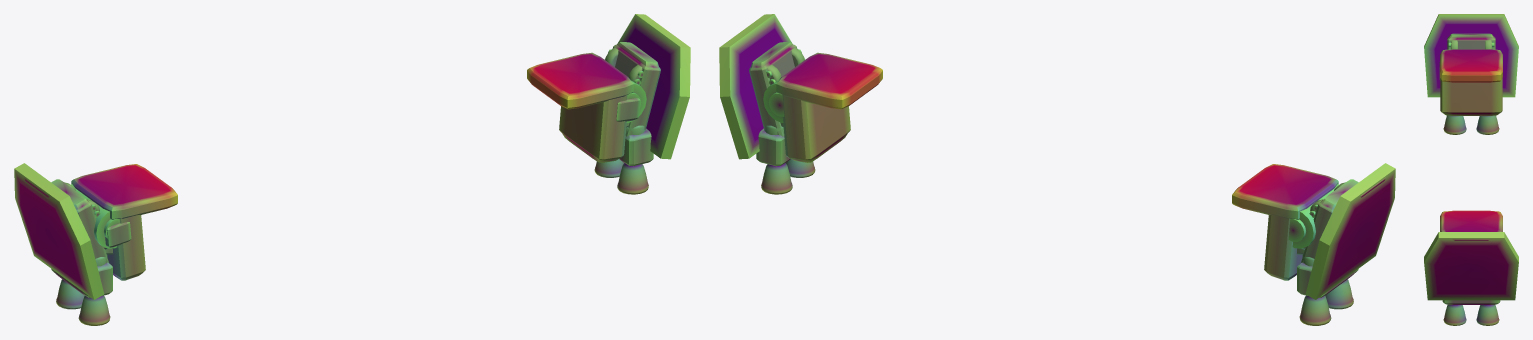
The model's file is llm_gen_shoulder_pods_060_e6b673.glb.
3 views of the same model, side by side, from view 1: azimuth 30°, elevation 25°; view 2: azimuth 150°, elevation 25°; view 3: azimuth 270°, elevation 25° (orthographic). The views are drawn at different scales.
Parts seen in each view (by area): view 1: adapter_shoulder_yoke_r, samurai_lower_tier_2_titanium_silver_l, adapter_shoulder_yoke_l, samurai_lower_tier_2_titanium_silver_r, adapter_sub_sode_frame_dark_0_adapter_dark_r, adapter_sub_sode_frame_dark_0_adapter_dark_l, samurai_mount_bracket_5_adapter_dark_r, samurai_vernier_b_7_vernier_bell_vernier_r, samurai_vernier_b_7_vernier_bell_vernier_l, samurai_vernier_a_6_vernier_bell_vernier_l, adapter_sh_front_latch_dark_8_adapter_dark_l, samurai_mount_bracket_5_adapter_dark_l (+1 smaller); view 2: adapter_shoulder_yoke_r, samurai_lower_tier_2_titanium_silver_l, adapter_shoulder_yoke_l, samurai_lower_tier_2_titanium_silver_r, adapter_sub_sode_frame_dark_0_adapter_dark_r, adapter_sub_sode_frame_dark_0_adapter_dark_l, samurai_mount_bracket_5_adapter_dark_r, samurai_vernier_a_6_vernier_bell_vernier_r, samurai_vernier_a_6_vernier_bell_vernier_l, samurai_vernier_b_7_vernier_bell_vernier_l, samurai_mount_bracket_5_adapter_dark_l; view 3: samurai_lower_tier_2_titanium_silver_r, adapter_shoulder_yoke_l, samurai_lower_tier_2_titanium_silver_l, adapter_shoulder_yoke_r, adapter_sub_sode_frame_dark_0_adapter_dark_l, samurai_vernier_a_6_vernier_bell_vernier_r, samurai_vernier_b_7_vernier_bell_vernier_r, samurai_vernier_a_6_vernier_bell_vernier_l, samurai_vernier_b_7_vernier_bell_vernier_l, samurai_mount_bracket_5_adapter_dark_r, servo_1_servo_accent_l.
Boxes of the visible parts, box(x1,y1,x2,y2) form: adapter_shoulder_yoke_r: box(527, 52, 646, 162); samurai_lower_tier_2_titanium_silver_l: box(14, 163, 104, 299); adapter_shoulder_yoke_l: box(70, 164, 177, 280); samurai_lower_tier_2_titanium_silver_r: box(617, 14, 690, 159); adapter_sub_sode_frame_dark_0_adapter_dark_r: box(612, 42, 660, 136); adapter_sub_sode_frame_dark_0_adapter_dark_l: box(51, 179, 108, 263); samurai_mount_bracket_5_adapter_dark_r: box(619, 128, 653, 166); samurai_vernier_b_7_vernier_bell_vernier_r: box(617, 163, 648, 194); samurai_vernier_b_7_vernier_bell_vernier_l: box(78, 295, 110, 325); samurai_vernier_a_6_vernier_bell_vernier_l: box(56, 279, 84, 309); adapter_sh_front_latch_dark_8_adapter_dark_l: box(105, 222, 131, 247); samurai_mount_bracket_5_adapter_dark_l: box(51, 262, 112, 297); adapter_shoulder_yoke_r: box(763, 52, 882, 162); samurai_lower_tier_2_titanium_silver_l: box(1305, 163, 1395, 299); adapter_shoulder_yoke_l: box(1232, 164, 1339, 280); samurai_lower_tier_2_titanium_silver_r: box(719, 14, 792, 159); adapter_sub_sode_frame_dark_0_adapter_dark_r: box(749, 42, 797, 136); adapter_sub_sode_frame_dark_0_adapter_dark_l: box(1301, 179, 1358, 263); samurai_mount_bracket_5_adapter_dark_r: box(756, 128, 790, 166); samurai_vernier_a_6_vernier_bell_vernier_r: box(761, 163, 792, 194); samurai_vernier_a_6_vernier_bell_vernier_l: box(1299, 295, 1331, 325); samurai_vernier_b_7_vernier_bell_vernier_l: box(1325, 279, 1353, 309); samurai_mount_bracket_5_adapter_dark_l: box(1297, 262, 1358, 297); samurai_lower_tier_2_titanium_silver_r: box(1424, 232, 1518, 300); adapter_shoulder_yoke_l: box(1440, 49, 1502, 115); samurai_lower_tier_2_titanium_silver_l: box(1424, 14, 1518, 97); adapter_shoulder_yoke_r: box(1440, 210, 1502, 231); adapter_sub_sode_frame_dark_0_adapter_dark_l: box(1447, 33, 1495, 49); samurai_vernier_a_6_vernier_bell_vernier_r: box(1476, 305, 1499, 325); samurai_vernier_b_7_vernier_bell_vernier_r: box(1443, 305, 1466, 325); samurai_vernier_a_6_vernier_bell_vernier_l: box(1476, 115, 1499, 134); samurai_vernier_b_7_vernier_bell_vernier_l: box(1443, 115, 1466, 134); samurai_mount_bracket_5_adapter_dark_r: box(1442, 300, 1500, 304); servo_1_servo_accent_l: box(1451, 40, 1491, 49).
Bounding box in the file's own units: 109 × 23.22 × 19.55.
